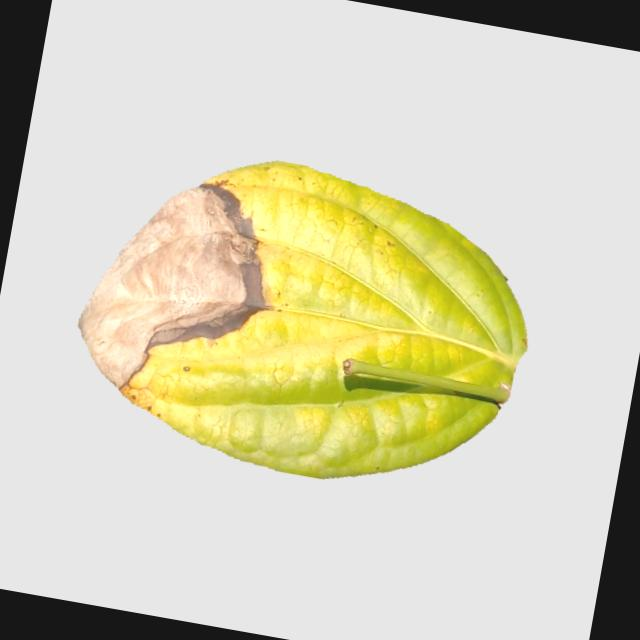leaf-blight: (62, 136, 554, 510)
